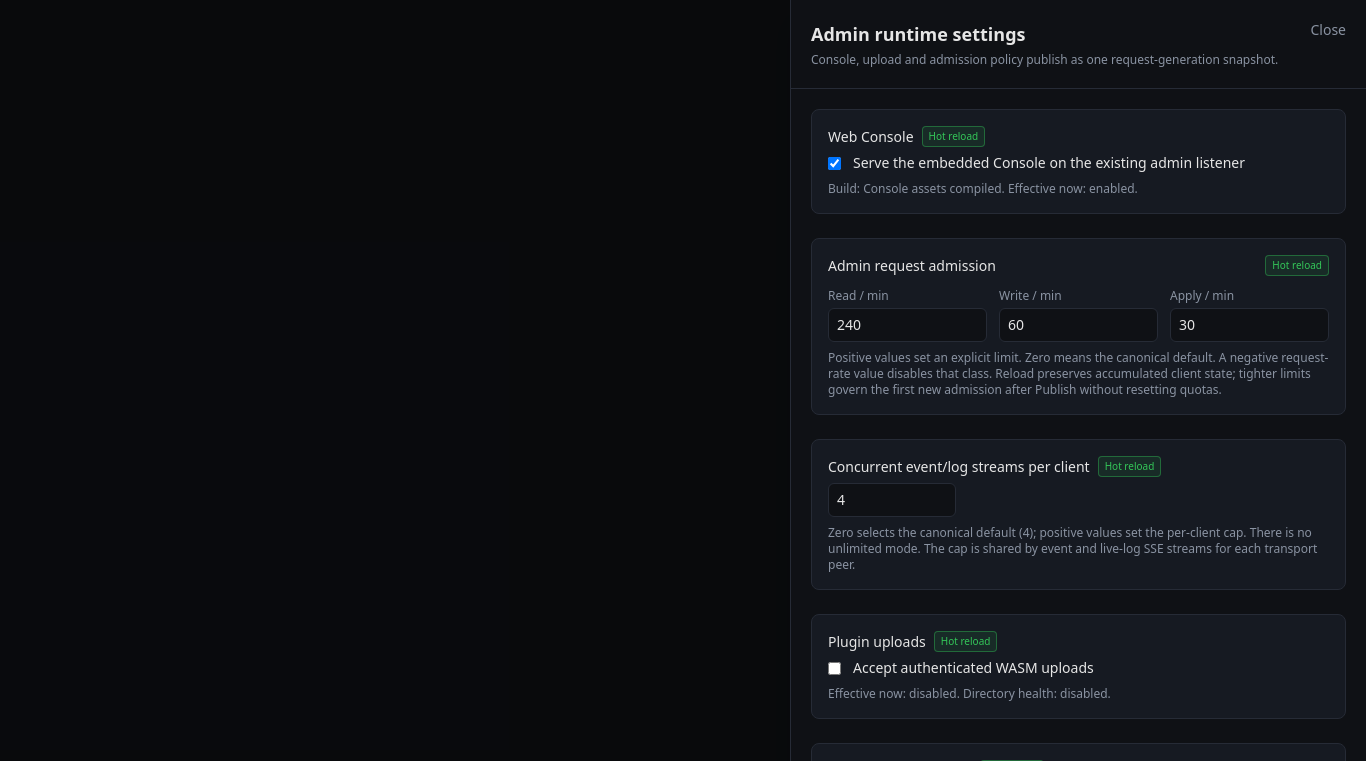
AdminRuntimeSettingsDrawer HR-07A limits › rejects negative/non-integer SSE caps while negative request rates remain valid
This screenshot has width=1366, height=761.
Expected: the text "Admin request admission" is shown, [828,256,996,276]
Replace the text in the number field labelled "Read / min" with "-20": (908, 325) [828,308,987,342]
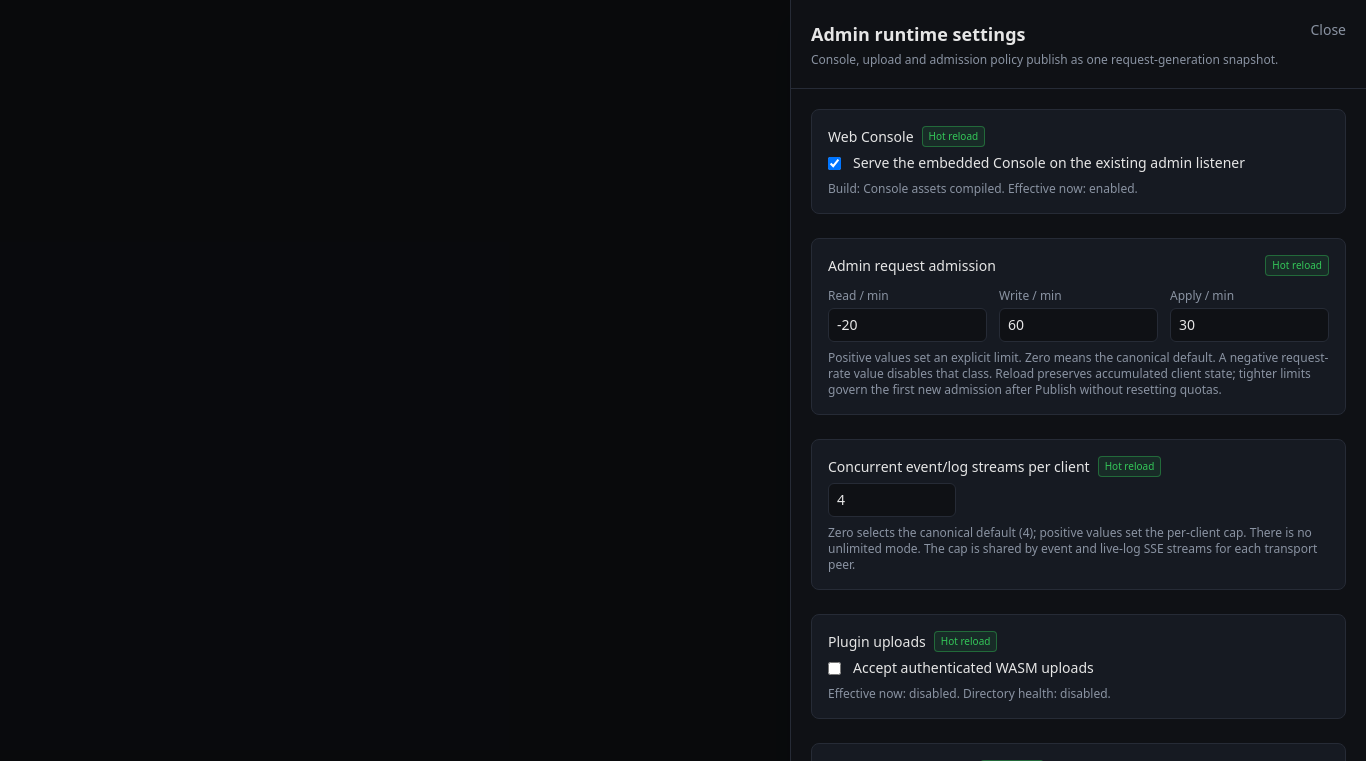
Replace the text in the 4th number field with "-1": (892, 500) [828,483,956,517]
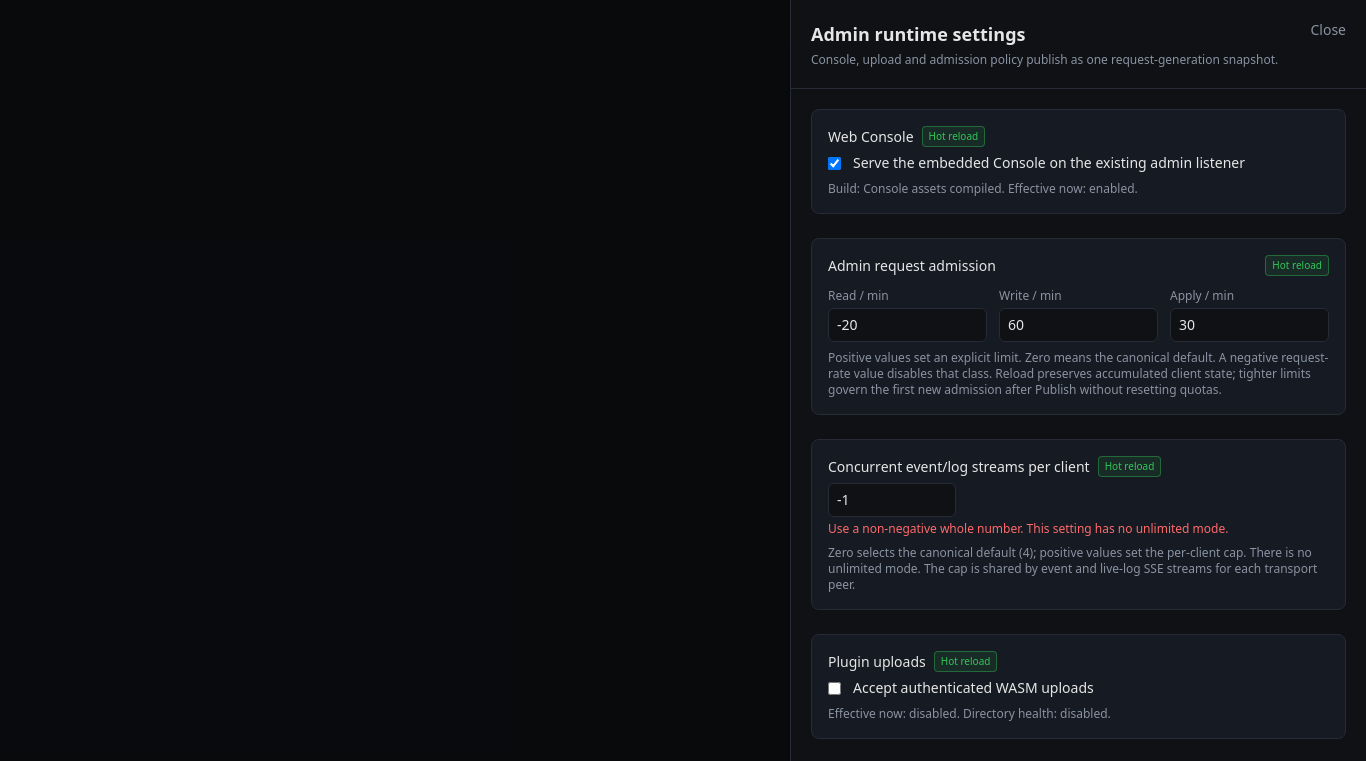
Now the text "Use a non-negative whole number" is shown, box [828,520,1228,537]
Replace the text in the 4th number field with "1.5": (892, 500) [828,483,956,517]
(page scrolled)
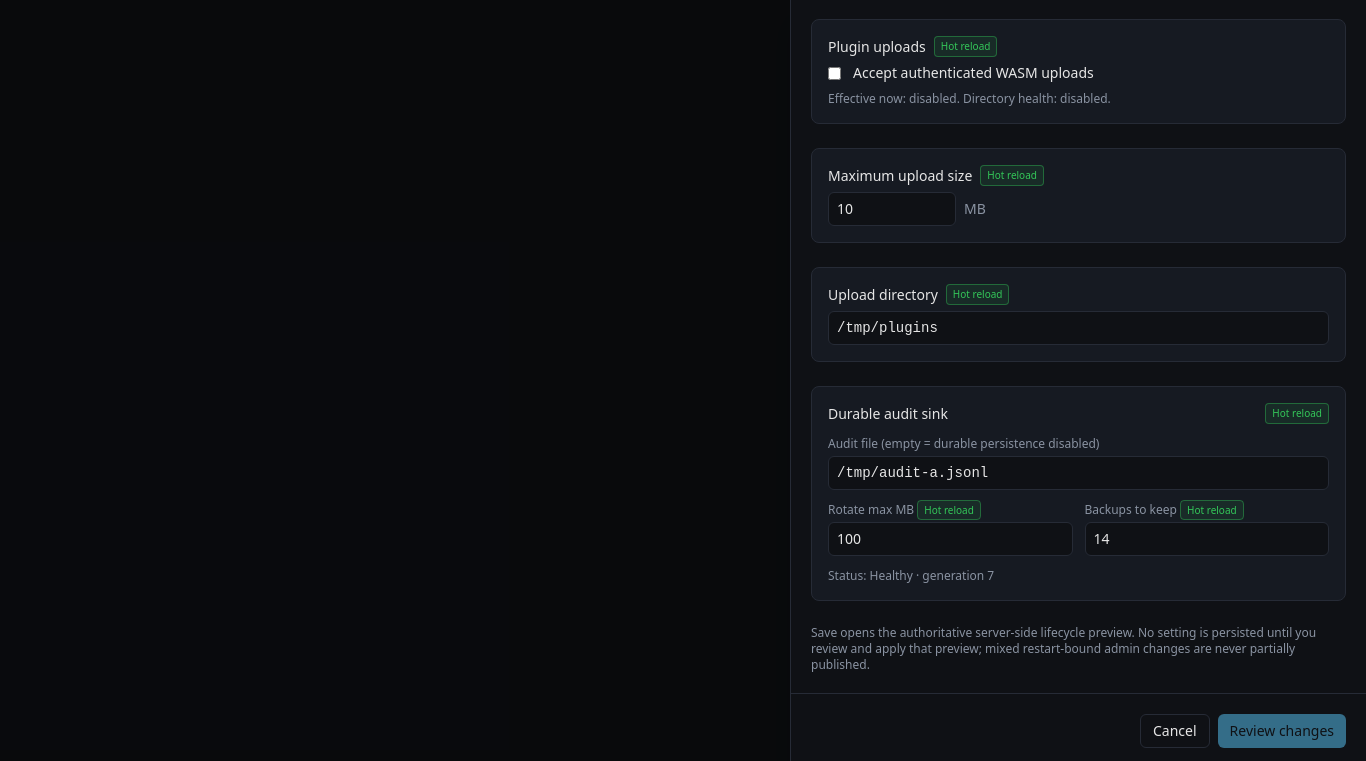
Now the button "Review changes" is disabled, box [1218,714,1346,748]
